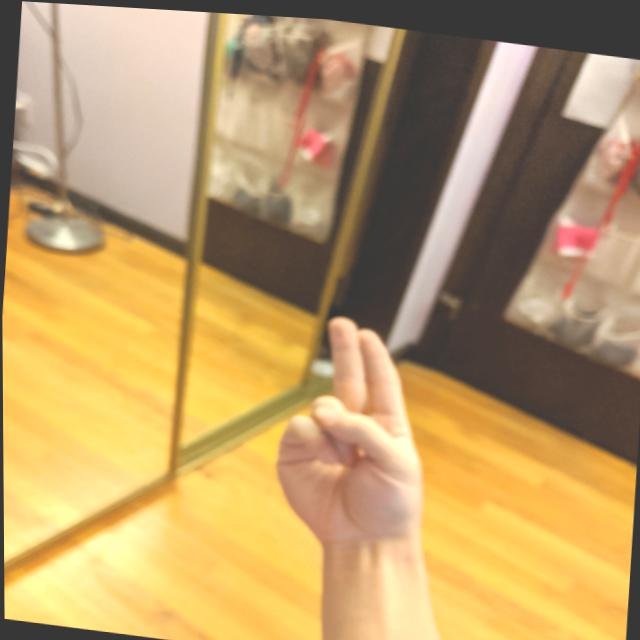U: (261, 300, 442, 561)
